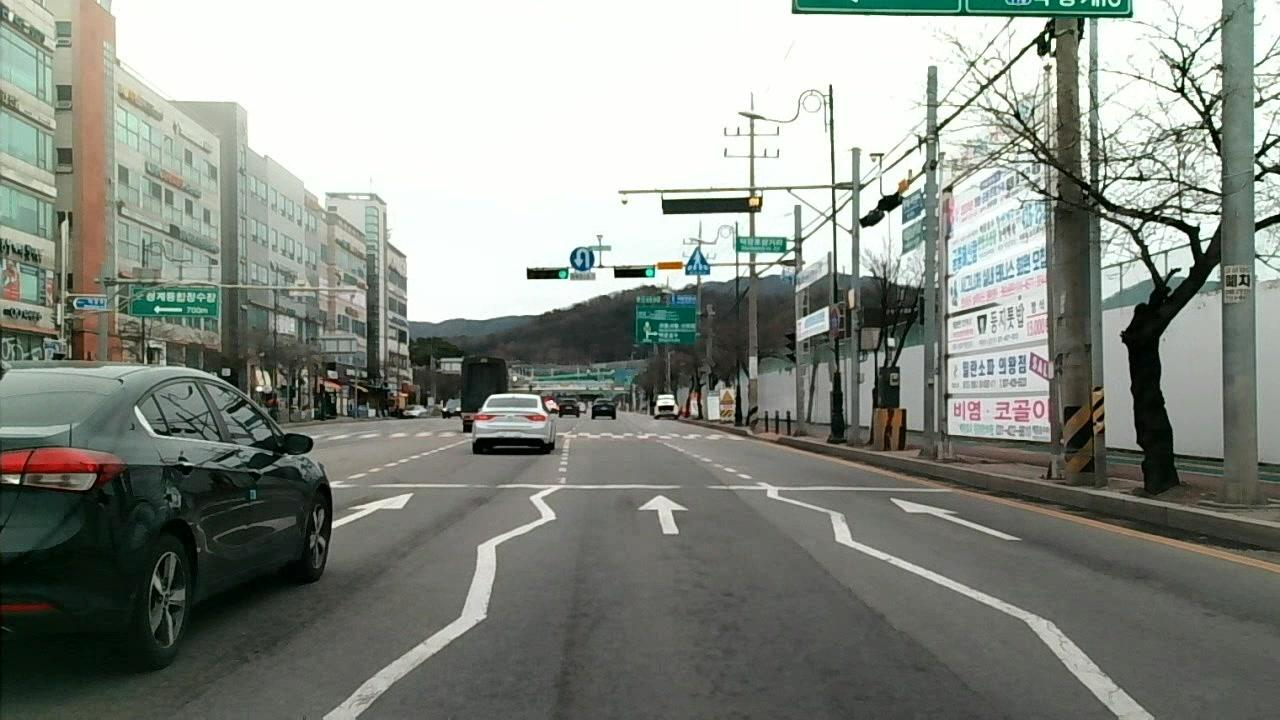vcrack: (816, 566, 985, 700), (163, 640, 289, 714)
